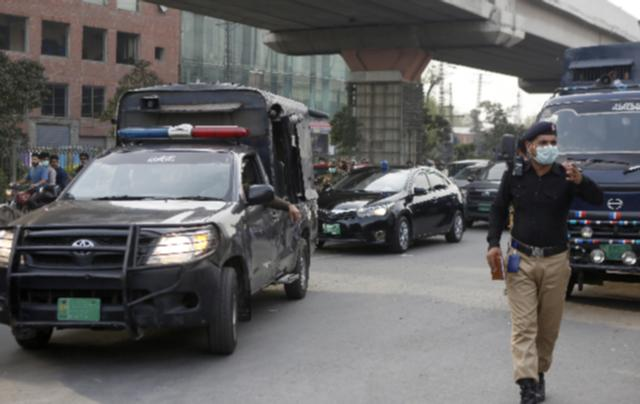police_car: (6, 92, 317, 362)
